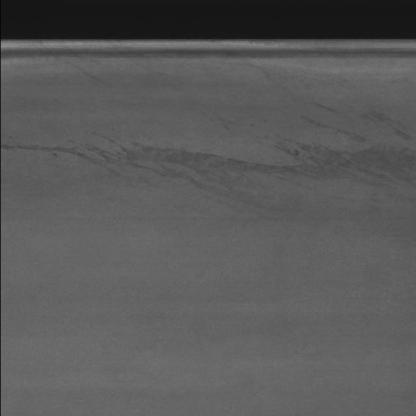water_spot: (1, 116, 409, 196)
